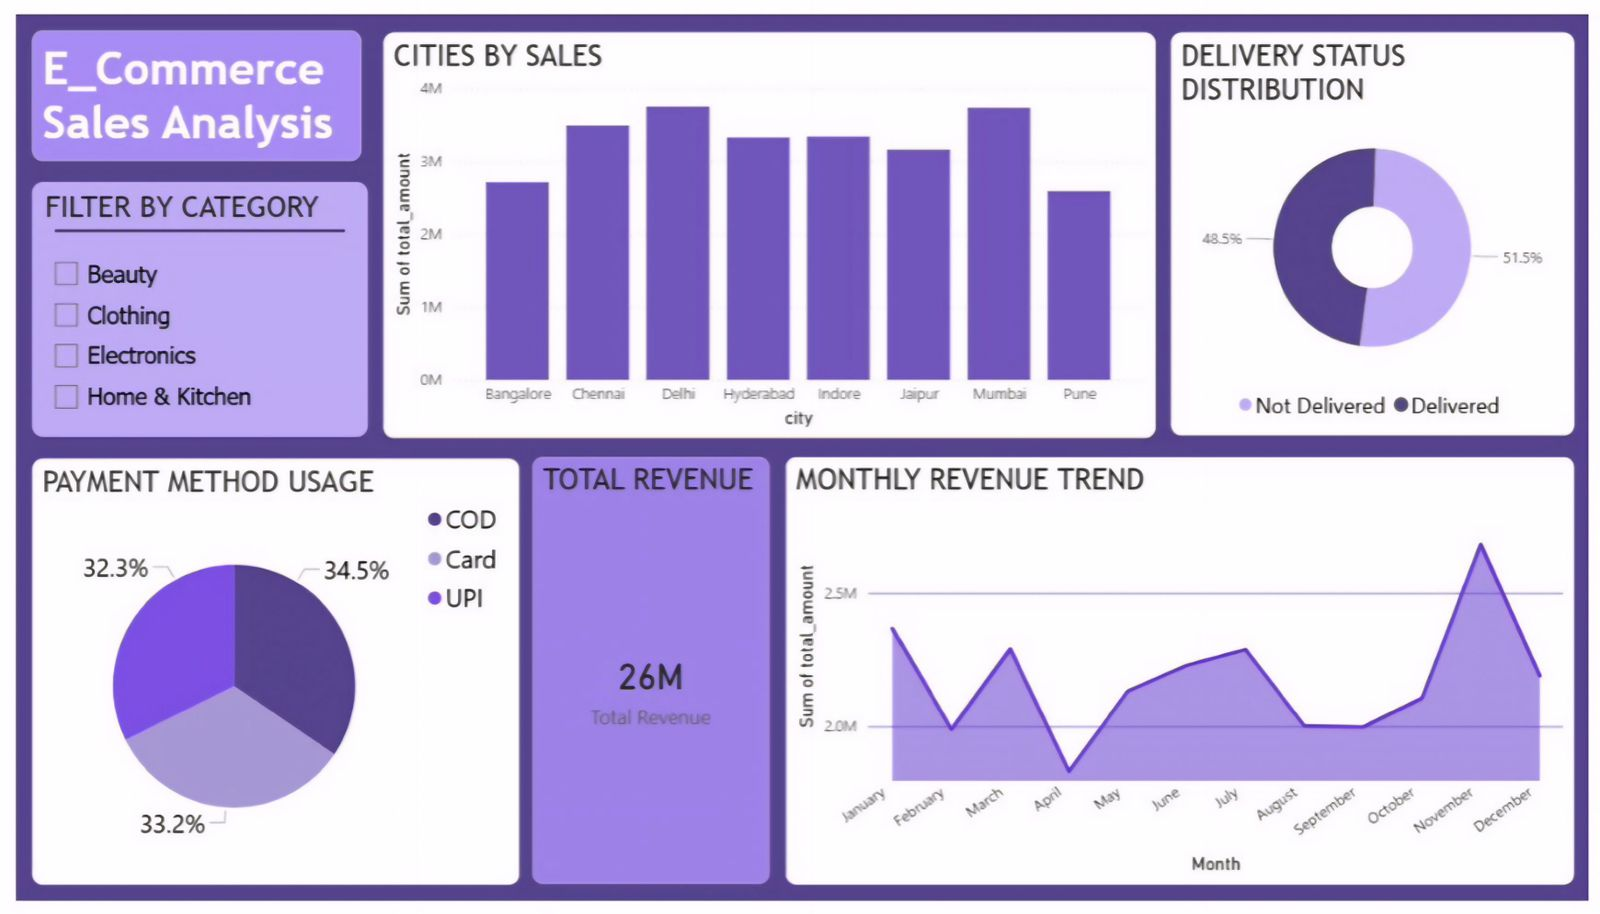

The dashboard page shown, as its layout file describes it:
{"tool":"powerbi","page":{"name":"Page 1","canvas":[1280,720],"ordinal":0},"visuals":[{"type":"card","title":"TOTAL REVENUE","fields":{"Values":["Sum(public sales.total_amount)"]},"box":[419.6,360.7,192.9,346.4],"z":0},{"type":"lineChart","title":"MONTHLY REVENUE TREND","fields":{"Category":["public sales.order_date.Variation.Date Hierarchy.Month"],"Y":["Sum(public sales.total_amount)"]},"box":[626.4,360.4,641.5,347.2],"z":1000},{"type":"columnChart","title":"CITIES BY SALES","fields":{"Category":["public sales.city"],"Y":["Sum(public sales.total_amount)"]},"box":[298.5,15.4,627.7,329.2],"z":2000},{"type":"donutChart","title":"DELIVERY STATUS DISTRIBUTION","fields":{"Category":["public sales.delivery_status"],"Y":["CountNonNull(public sales.order_id)"]},"box":[939.1,16.1,328.7,327.5],"z":3000},{"type":"pieChart","title":"PAYMENT METHOD USAGE","fields":{"Category":["public sales.payment_method"],"Y":["CountNonNull(public sales.order_id)"]},"box":[12.4,360.8,396.7,346],"z":4000},{"type":"slicer","title":"FILTER BY CATEGORY","fields":{"Values":["public sales.product_category"]},"box":[12.4,137.2,273.1,206.4],"z":5000},{"type":"textbox","box":[12.4,14.8,268.2,106.3],"z":6000}]}

Visuals, with their boxes in screenshot pixels (x1, y1, x2, y2), scaled from the page's 1280x720 canvas onto the 1600x914 screenshot:
"TOTAL REVENUE" card: [524,458,766,898]
"MONTHLY REVENUE TREND" lineChart: [783,458,1585,898]
"CITIES BY SALES" columnChart: [373,20,1158,437]
"DELIVERY STATUS DISTRIBUTION" donutChart: [1174,20,1585,436]
"PAYMENT METHOD USAGE" pieChart: [16,458,511,897]
"FILTER BY CATEGORY" slicer: [16,174,357,436]
textbox: [16,19,351,154]
